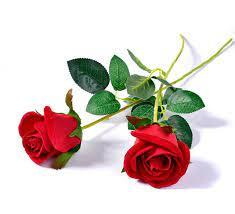Rose: (117, 124, 194, 190), (14, 101, 84, 169)
